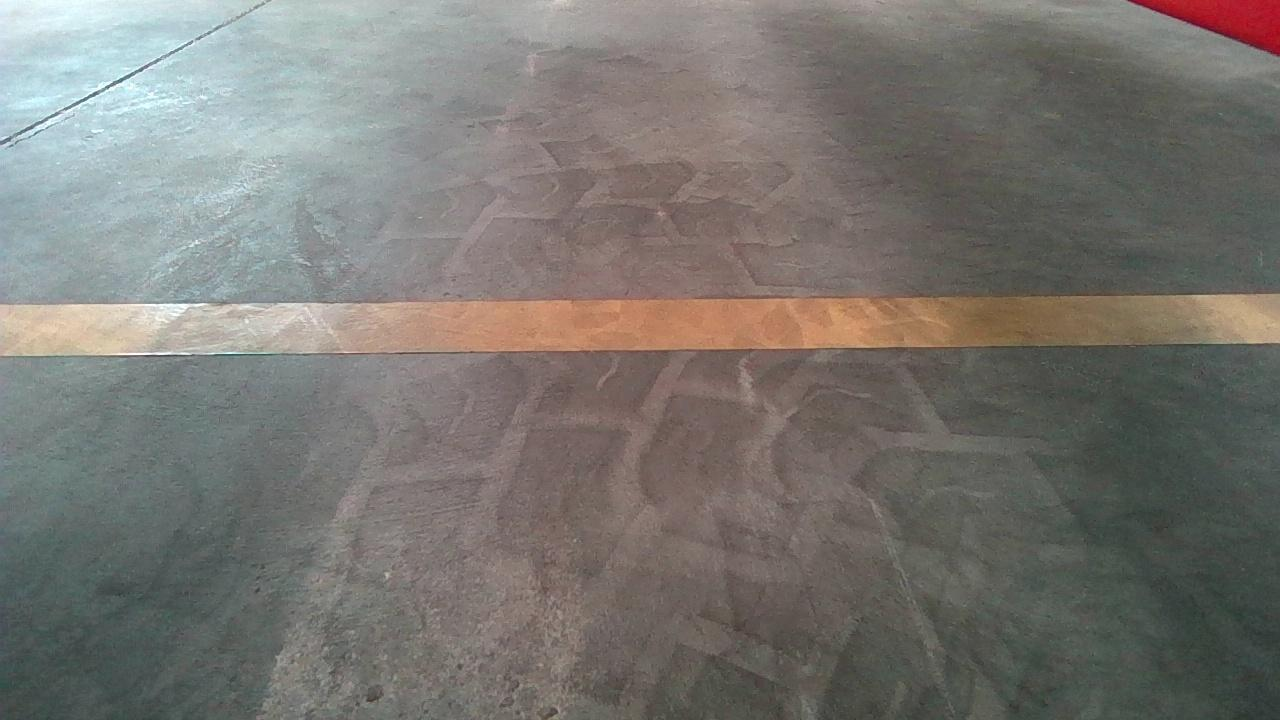yellow_line: (3, 288, 1263, 356)
